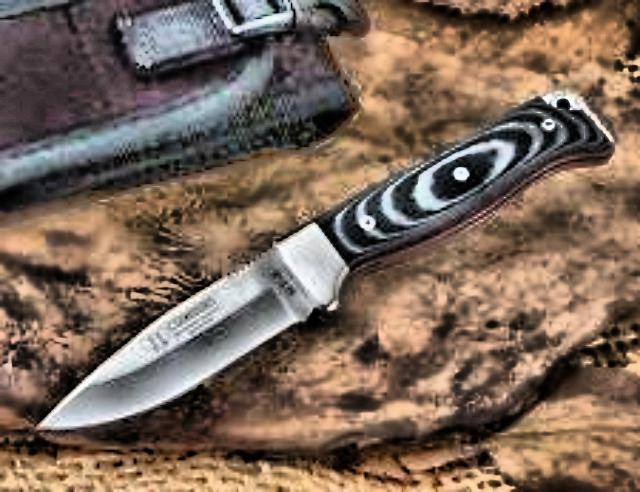knife: (26, 216, 364, 436)
